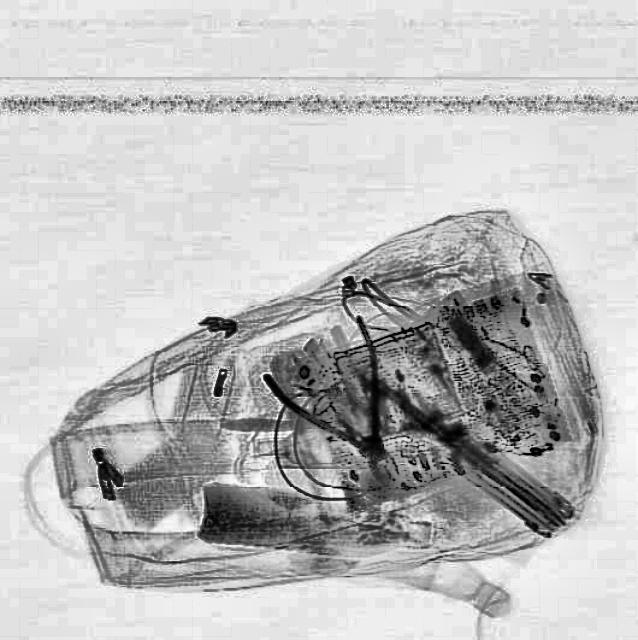Pliers: (255, 314, 443, 504)
